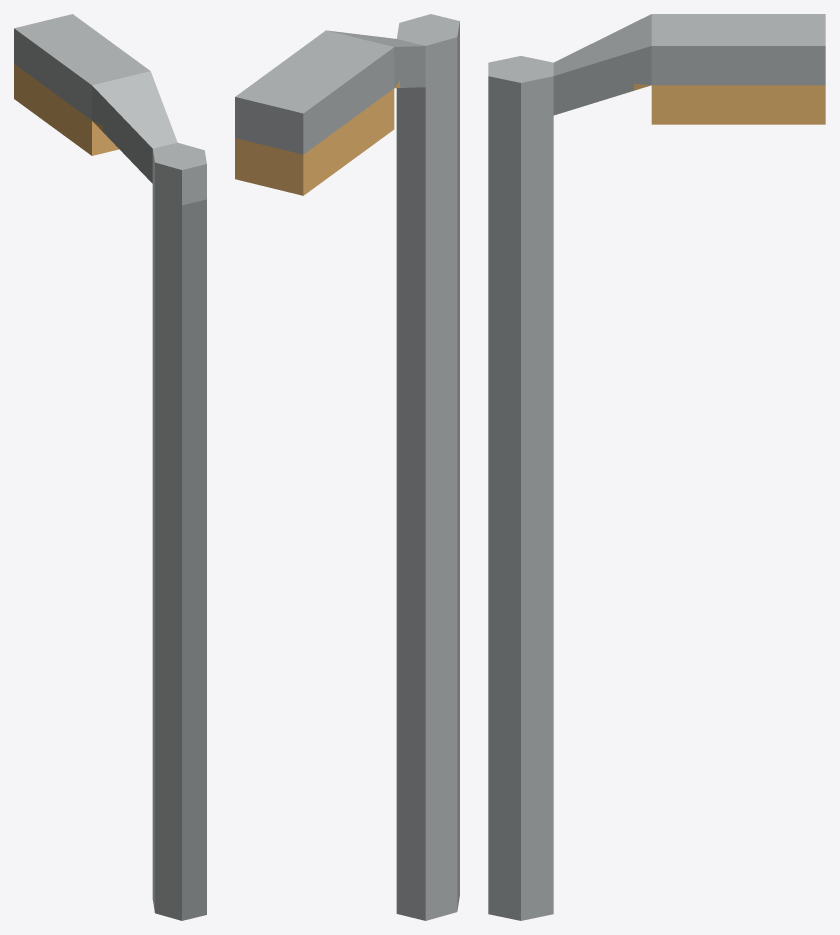
File: Street Light.fbx
3 renders of one model, left to right at view 1: azimuth 30°, elevation 25°; view 2: azimuth 150°, elevation 25°; view 3: azimuth 270°, elevation 25°, orthographic. The views are drawn at different scales.
Parts seen in each view (by area): view 1: cylinder; view 2: cylinder; view 3: cylinder.
Boxes of the visible parts, left/top/right/bottom form: cylinder: left=14, top=14, right=206, bottom=920; cylinder: left=235, top=14, right=459, bottom=920; cylinder: left=488, top=14, right=825, bottom=920.
Bounding box in the file's own units: 10.86 × 139 × 48.44.
1 material, 1 textured.
